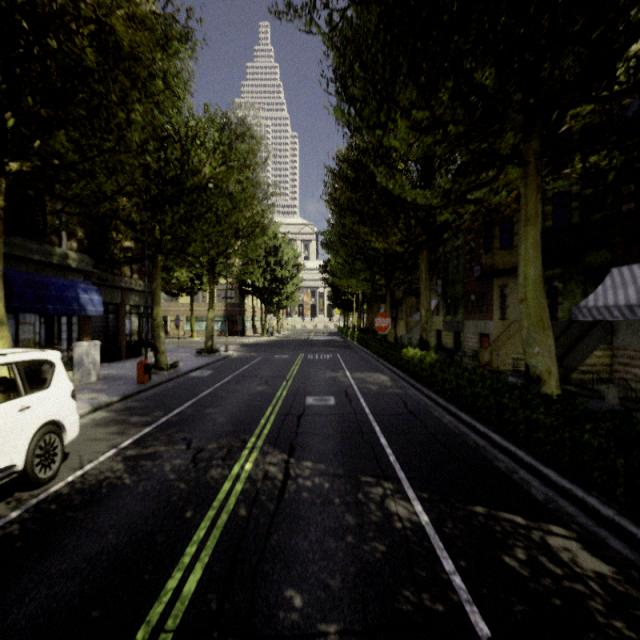stop sign: (372, 307, 393, 336), (374, 314, 391, 332)
